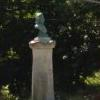Statue: (20, 5, 54, 59)
